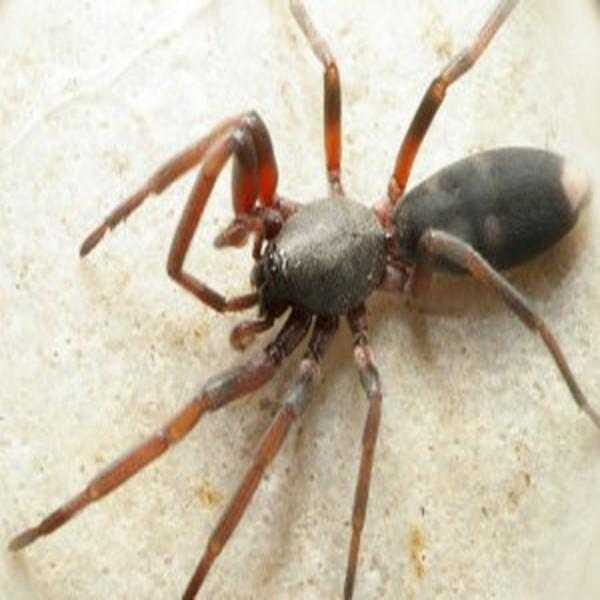White-Tailed Spider: (72, 38, 589, 583)
